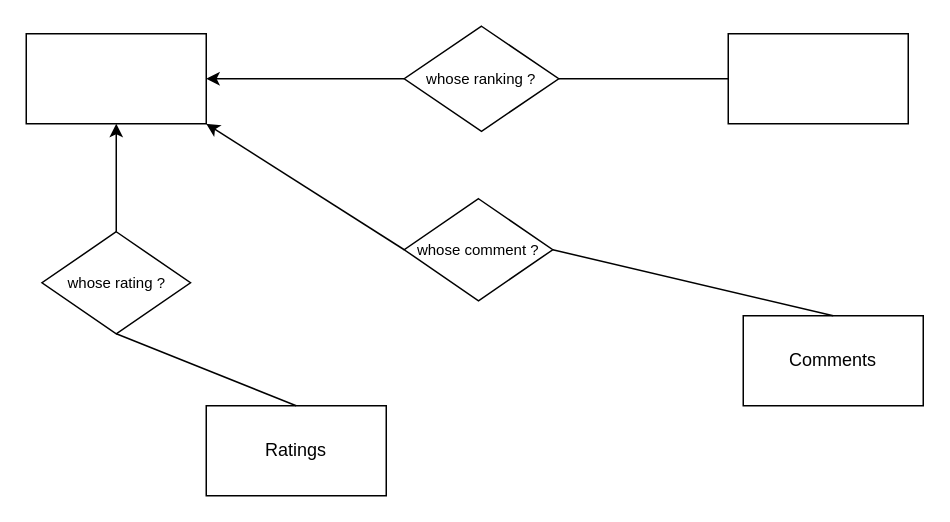
Image size: 950x522. Some labels were removed from this diagram. Here are the shapes that lost their labels. From the top down, the centre of each, then its label:
At pixel 115 78: "Users".
At pixel 817 78: "Rankings".
